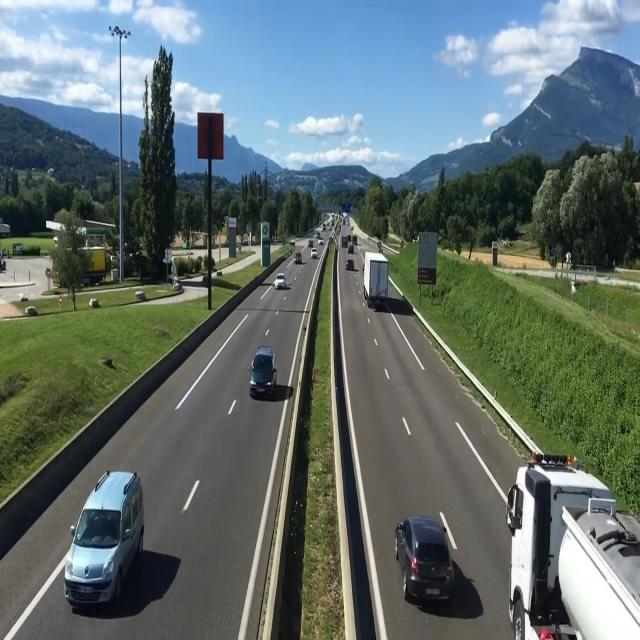car: (500, 441, 640, 640), (66, 472, 150, 614), (396, 506, 475, 630), (248, 343, 280, 402), (269, 270, 289, 296), (310, 246, 319, 263)
truck: (361, 247, 392, 311)
